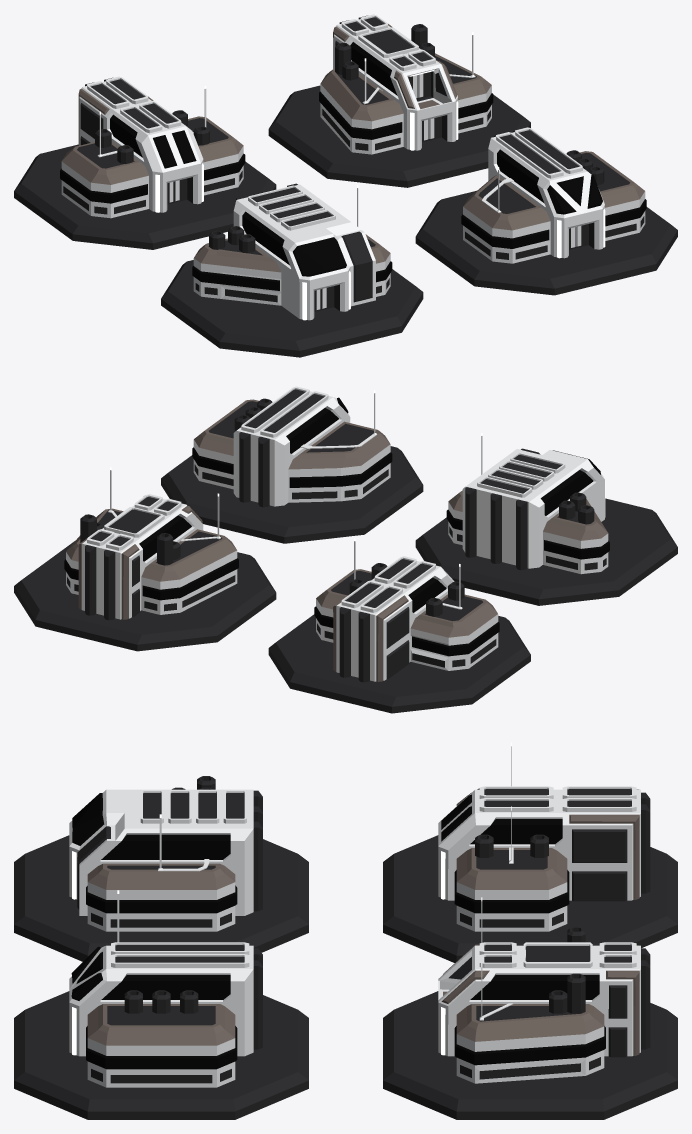
3 views of the same model, one above another, from view 1: azimuth 30°, elevation 25°; view 2: azimuth 150°, elevation 25°; view 3: azimuth 270°, elevation 25° (orthographic). The views are drawn at different scales.
Parts seen in each view (by area): view 1: Apartment_lvl1_2_Body.001, Apartment_lvl1_3_Body, Apartment_lvl1_2_Body, Apartment_lvl1_4_Body, Apartment_lvl1_1_Foundation, Apartment_lvl1_2_Foundation, Apartment_lvl1_4_Foundation, Apartment_lvl1_3_Foundation; view 2: Apartment_lvl1_2_Body, Apartment_lvl1_3_Body, Apartment_lvl1_4_Body, Apartment_lvl1_2_Body.001, Apartment_lvl1_1_Foundation, Apartment_lvl1_4_Foundation, Apartment_lvl1_3_Foundation, Apartment_lvl1_2_Foundation; view 3: Apartment_lvl1_4_Body, Apartment_lvl1_3_Body, Apartment_lvl1_2_Body.001, Apartment_lvl1_2_Body, Apartment_lvl1_4_Foundation, Apartment_lvl1_2_Foundation, Apartment_lvl1_3_Foundation, Apartment_lvl1_1_Foundation.
Part boxes in pixels (<box>): Apartment_lvl1_2_Body.001: <box>192,183,392,320</box>; Apartment_lvl1_3_Body: <box>60,76,245,218</box>; Apartment_lvl1_2_Body: <box>461,127,646,263</box>; Apartment_lvl1_4_Body: <box>319,14,493,154</box>; Apartment_lvl1_1_Foundation: <box>161,260,423,357</box>; Apartment_lvl1_2_Foundation: <box>415,190,677,295</box>; Apartment_lvl1_4_Foundation: <box>268,85,530,187</box>; Apartment_lvl1_3_Foundation: <box>14,144,276,249</box>; Apartment_lvl1_2_Body: <box>192,386,392,507</box>; Apartment_lvl1_3_Body: <box>314,538,499,682</box>; Apartment_lvl1_4_Body: <box>64,467,238,620</box>; Apartment_lvl1_2_Body.001: <box>446,433,609,574</box>; Apartment_lvl1_1_Foundation: <box>415,498,677,605</box>; Apartment_lvl1_4_Foundation: <box>14,541,276,651</box>; Apartment_lvl1_3_Foundation: <box>268,614,530,713</box>; Apartment_lvl1_2_Foundation: <box>161,446,423,543</box>; Apartment_lvl1_4_Body: <box>438,897,650,1083</box>; Apartment_lvl1_3_Body: <box>438,742,650,931</box>; Apartment_lvl1_2_Body.001: <box>69,776,262,931</box>; Apartment_lvl1_2_Body: <box>69,890,262,1087</box>; Apartment_lvl1_4_Foundation: <box>383,991,677,1119</box>; Apartment_lvl1_2_Foundation: <box>14,991,308,1119</box>; Apartment_lvl1_3_Foundation: <box>383,835,677,962</box>; Apartment_lvl1_1_Foundation: <box>14,835,308,961</box>.
Bounding box in the file's own units: 3600 × 760 × 3600.
Materials: 1 (1 with a texture image).
